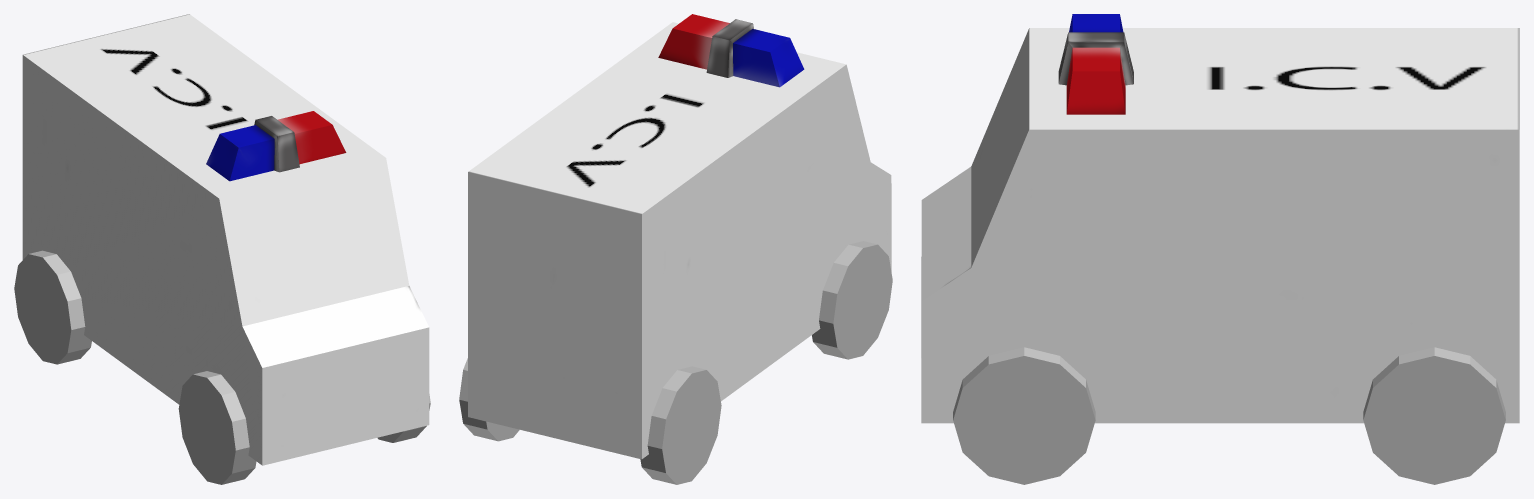
The model's file is ambulance.fbx.
The picture shows the model from 3 angles, left to right: view 1: azimuth 30°, elevation 25°; view 2: azimuth 150°, elevation 25°; view 3: azimuth 270°, elevation 25°; orthographic projection. The views are drawn at different scales.
Parts seen in each view (by area): view 1: polySurface40, polySurface29; view 2: polySurface40, polySurface29; view 3: polySurface40, polySurface29.
Part boxes in pixels (x1=…): polySurface40: x1=22, y1=14, x2=429, y2=465; polySurface29: x1=14, y1=250, x2=430, y2=484; polySurface40: x1=468, y1=14, x2=891, y2=459; polySurface29: x1=459, y1=241, x2=892, y2=484; polySurface40: x1=921, y1=14, x2=1519, y2=423; polySurface29: x1=953, y1=347, x2=1505, y2=484.
Bounding box in the file's own units: 2.81 × 4.29 × 6.
